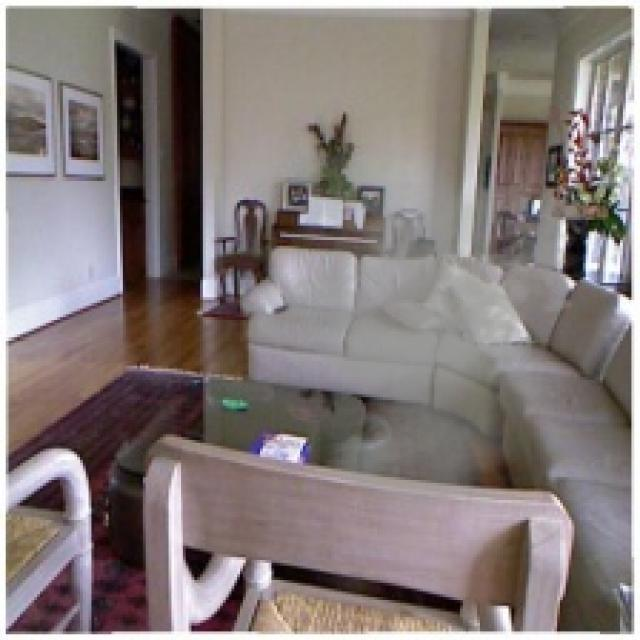Smoke: (225, 146, 598, 514)
